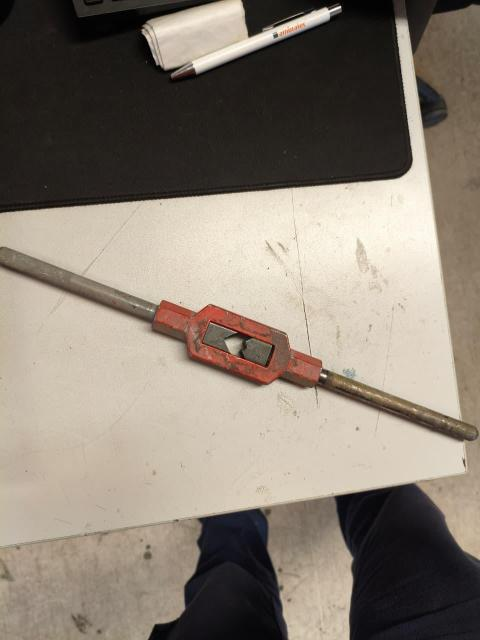Kagit: (143, 0, 248, 70)
Metal: (3, 235, 480, 448)
Plastik: (185, 15, 342, 63)
